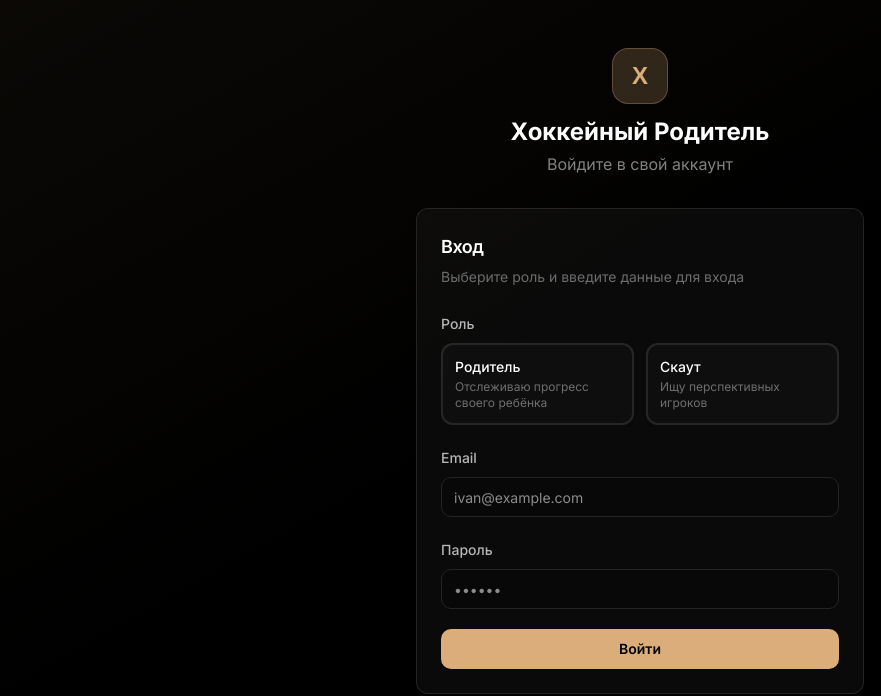
Test: LoginPage › displays generic error when no detail in response
The image size is (881, 696).
Click the button with aria-label "Роль: Родитель".
click(538, 384)  # box [441,343,634,425]
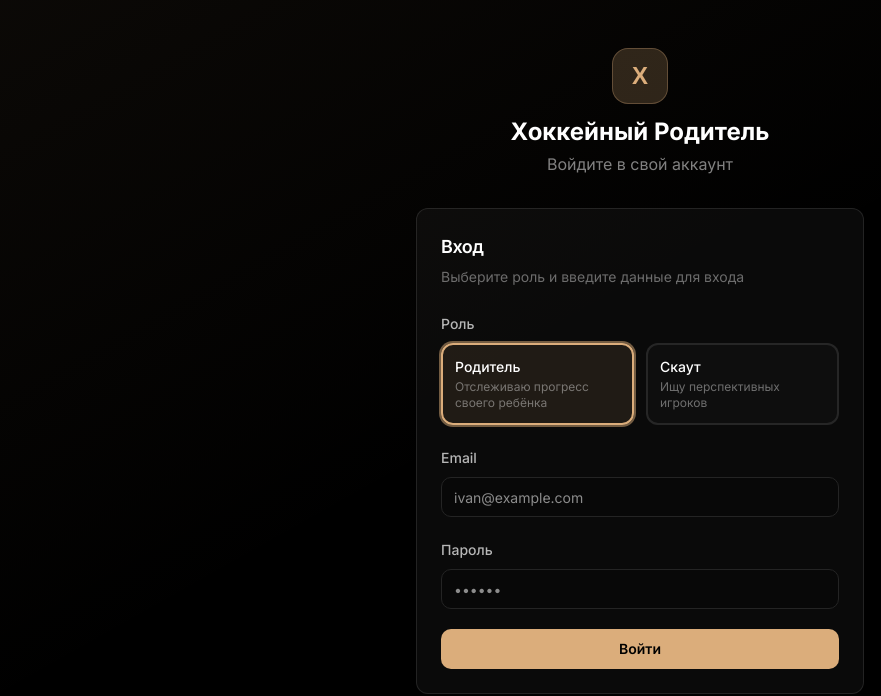
Type "user@test.com" into the field named "Email адрес".
click(640, 497); type("user@test.com")  # box [441,477,839,517]
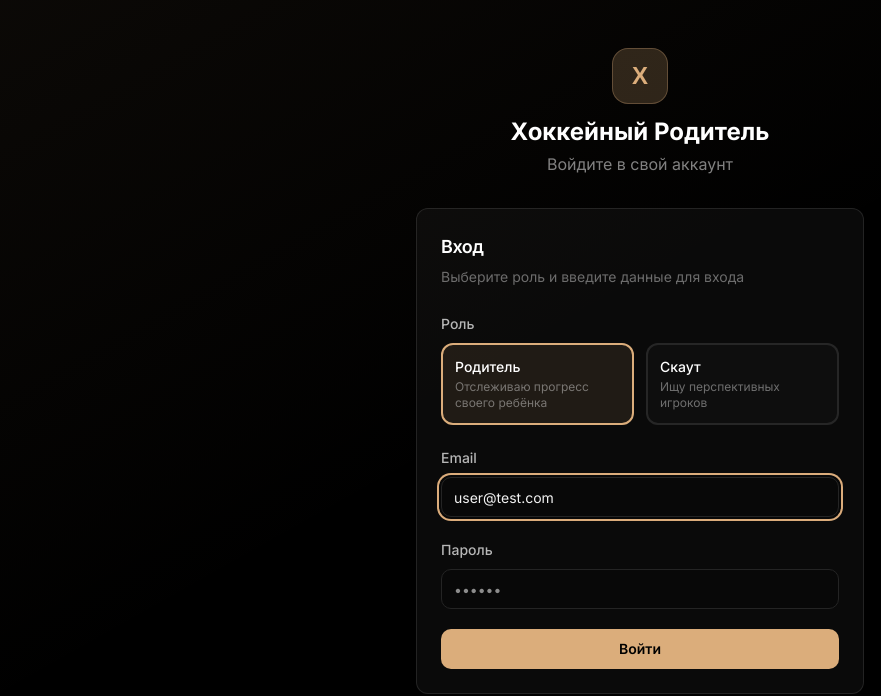
Type "password123" into the password field labelled "Пароль".
click(640, 589); type("password123")  # box [441,569,839,609]
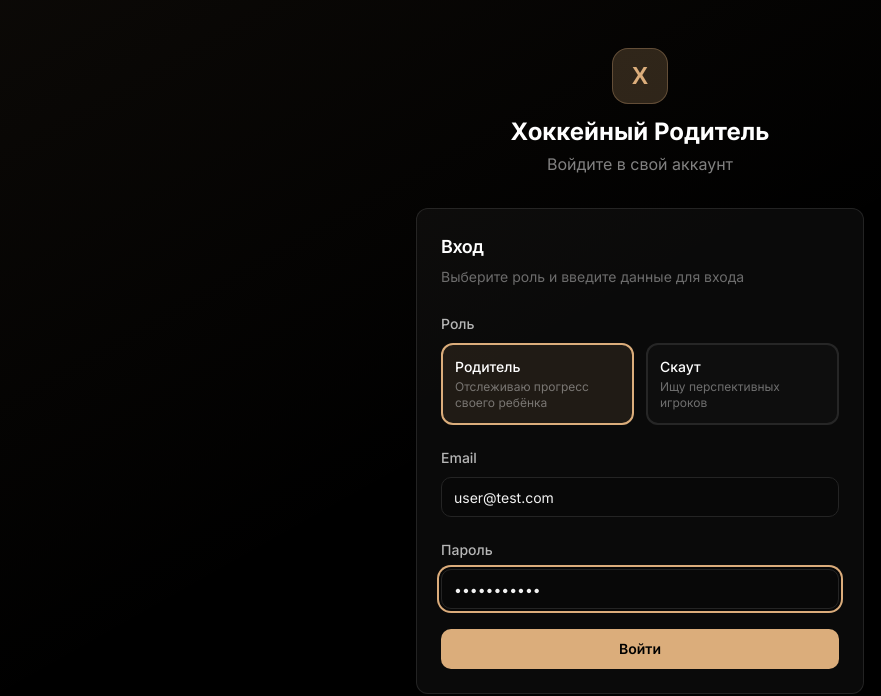
Click the button with aria-label "Войти в аккаунт".
click(640, 649)  # box [441,629,839,669]
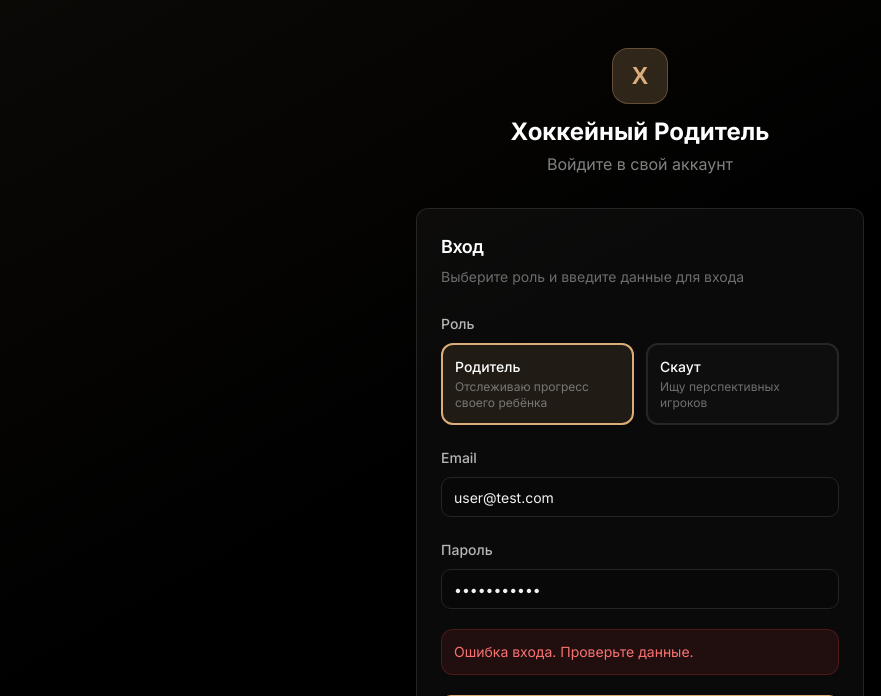
Expected: the text "Ошибка входа. Проверьте данные." is shown, [441,629,839,675]
